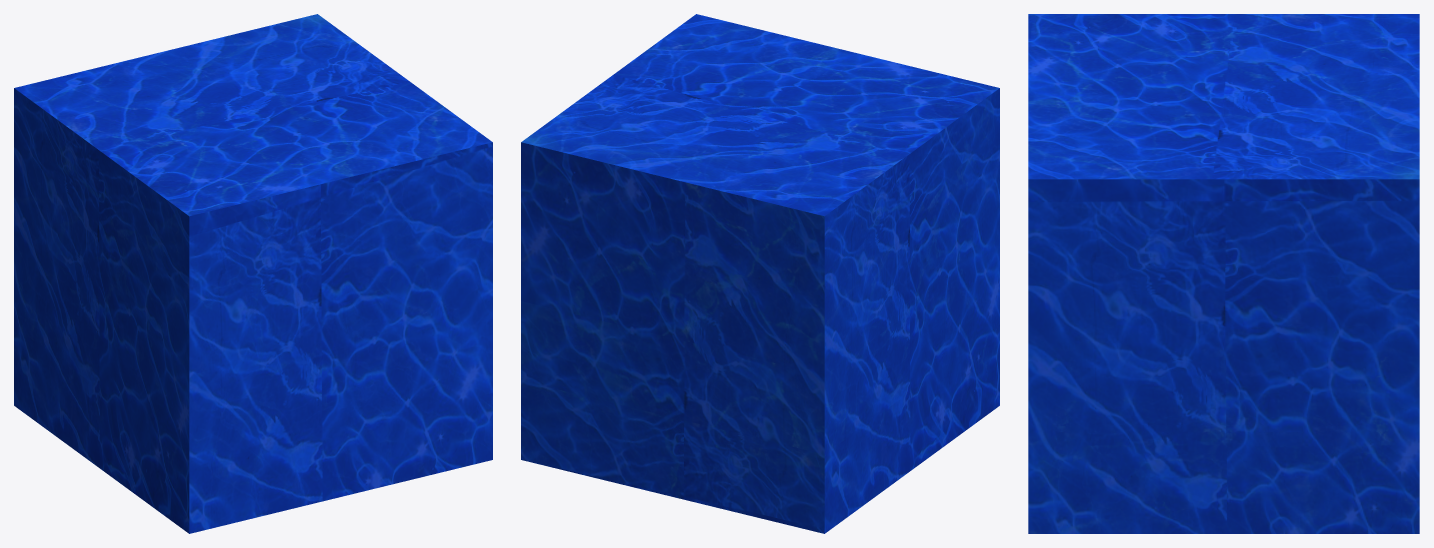
File: deep_water1.glb
3 views of the same model, side by side, from view 1: azimuth 30°, elevation 25°; view 2: azimuth 150°, elevation 25°; view 3: azimuth 270°, elevation 25° (orthographic). The views are drawn at different scales.
Parts seen in each view (by area): view 1: Block_Grass; view 2: Block_Grass; view 3: Block_Grass.
Part boxes in pixels (box(x1,y1,x2,y2)): Block_Grass: box(14, 14, 492, 533); Block_Grass: box(521, 14, 999, 533); Block_Grass: box(1028, 14, 1419, 533).
Bounding box in the file's own units: 2 × 2 × 2.
Materials: 1 (1 with a texture image).
